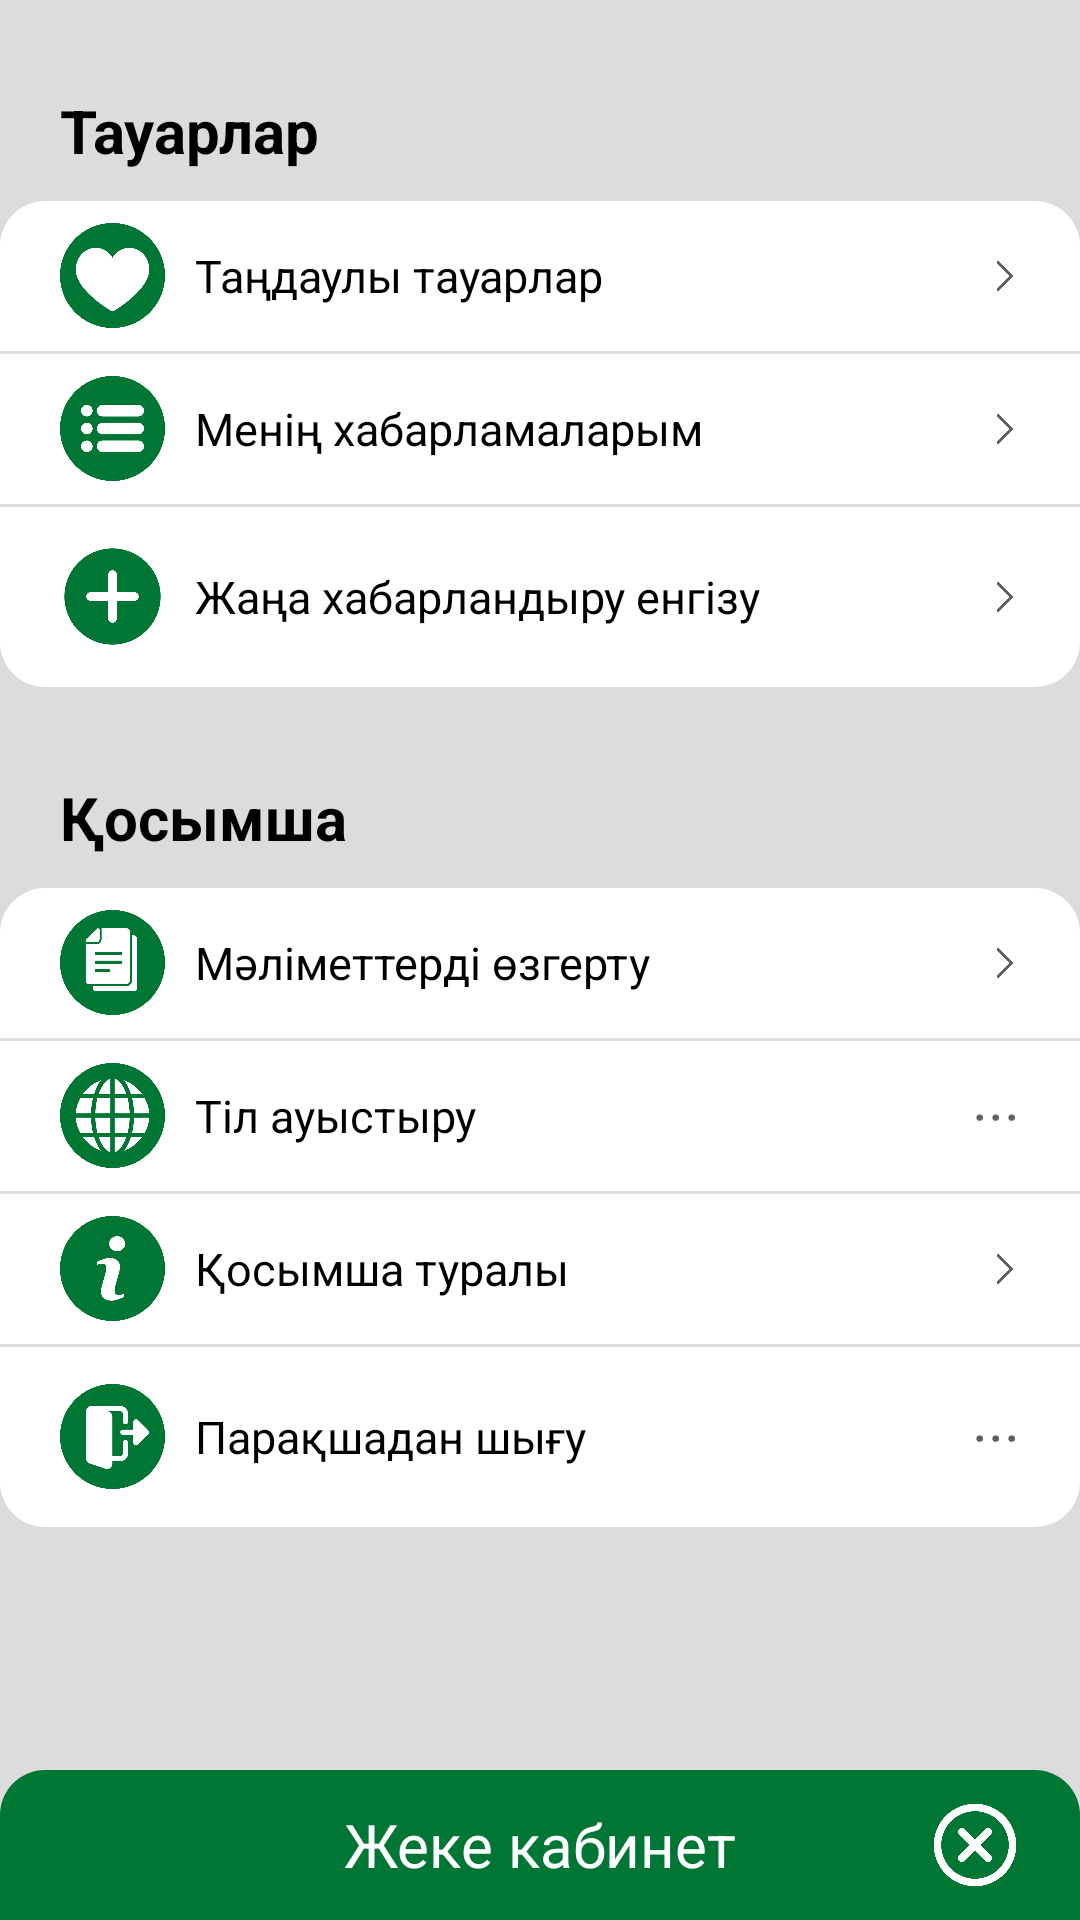

Screen size 1080w x 1920h. Icon name, then its center in pixels as [x,y]:
add: [112,596]
earth: [112,1115]
heart: [112,275]
information: [112,1268]
list: [112,428]
next: [1005,276], [1005,429], [1005,597], [1005,963], [1005,1269]
paper: [112,962]
